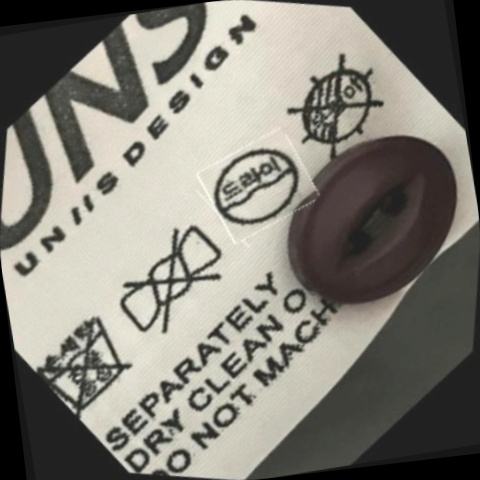DN_dry: (271, 41, 401, 173)
DN_wring: (98, 209, 245, 356)
dry_clean: (199, 127, 317, 248)
hand_wash: (25, 293, 150, 426)
